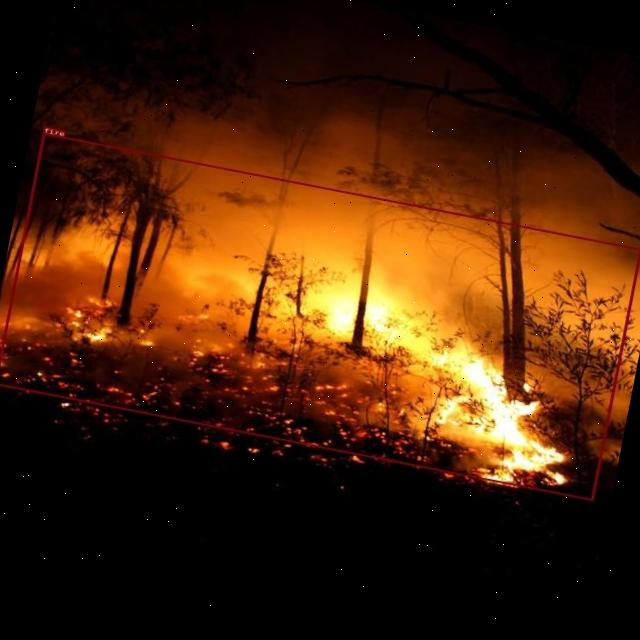fire: (0, 132, 640, 500)
